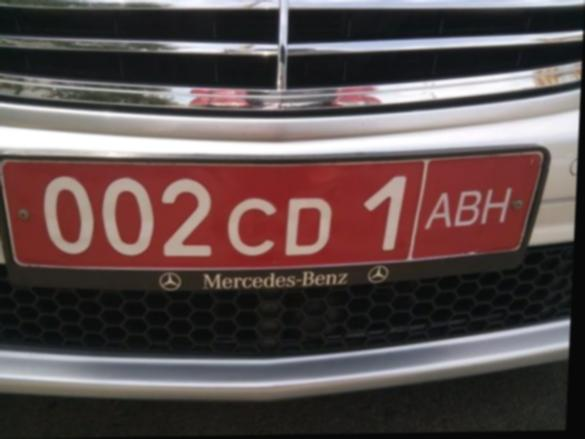License_Plate: (15, 160, 518, 292)
